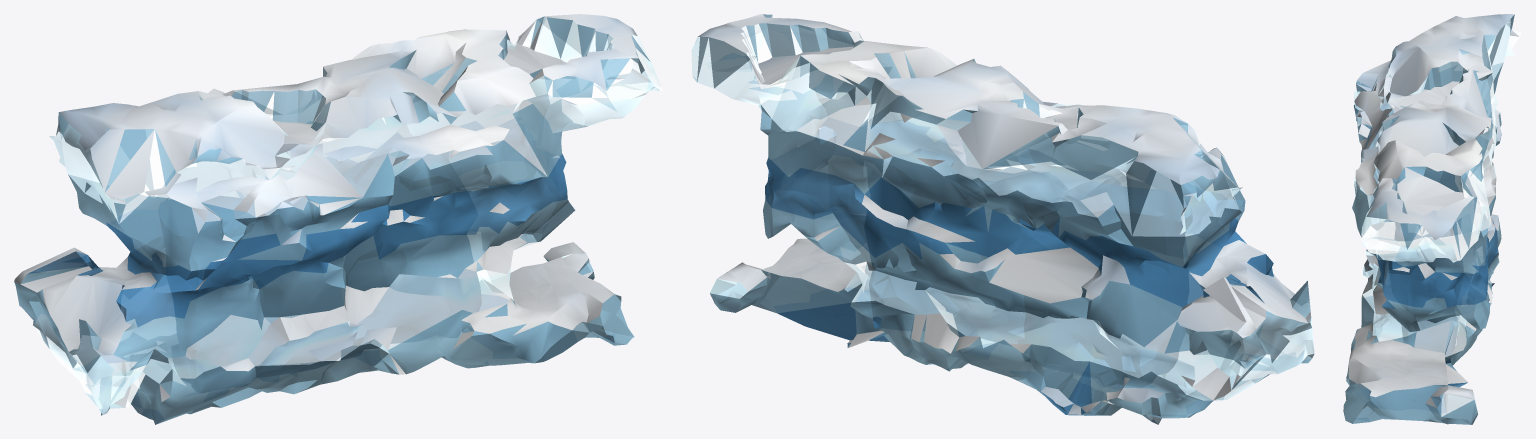
File: frost_ice_cliff_c.glb
3 renders of one model, left to right at view 1: azimuth 30°, elevation 25°; view 2: azimuth 150°, elevation 25°; view 3: azimuth 270°, elevation 25°, orthographic. The views are drawn at different scales.
Parts seen in each view (by area): view 1: frost_ice_cliff_c; view 2: frost_ice_cliff_c; view 3: frost_ice_cliff_c.
Part boxes in pixels (left/top/right/bottom): frost_ice_cliff_c: left=14, top=14, right=662, bottom=424; frost_ice_cliff_c: left=691, top=14, right=1314, bottom=424; frost_ice_cliff_c: left=1343, top=14, right=1521, bottom=424.
Bounding box in the file's own units: 19.38 × 9.15 × 6.21.
